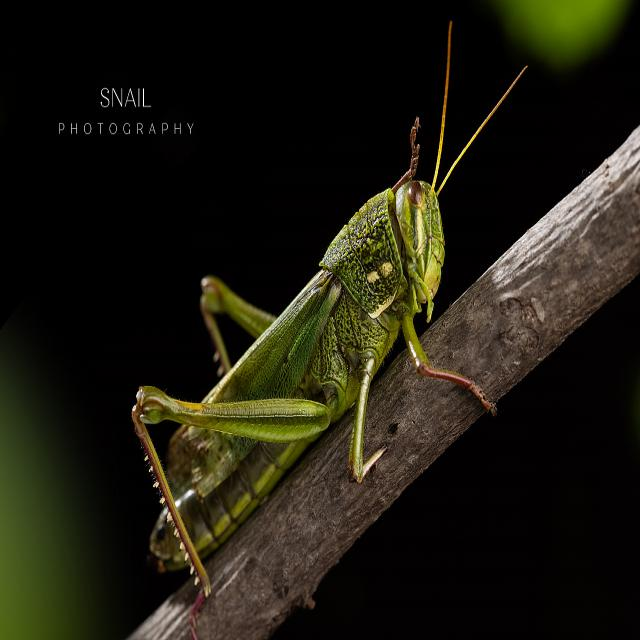ZhaMeng: (117, 101, 472, 590)
